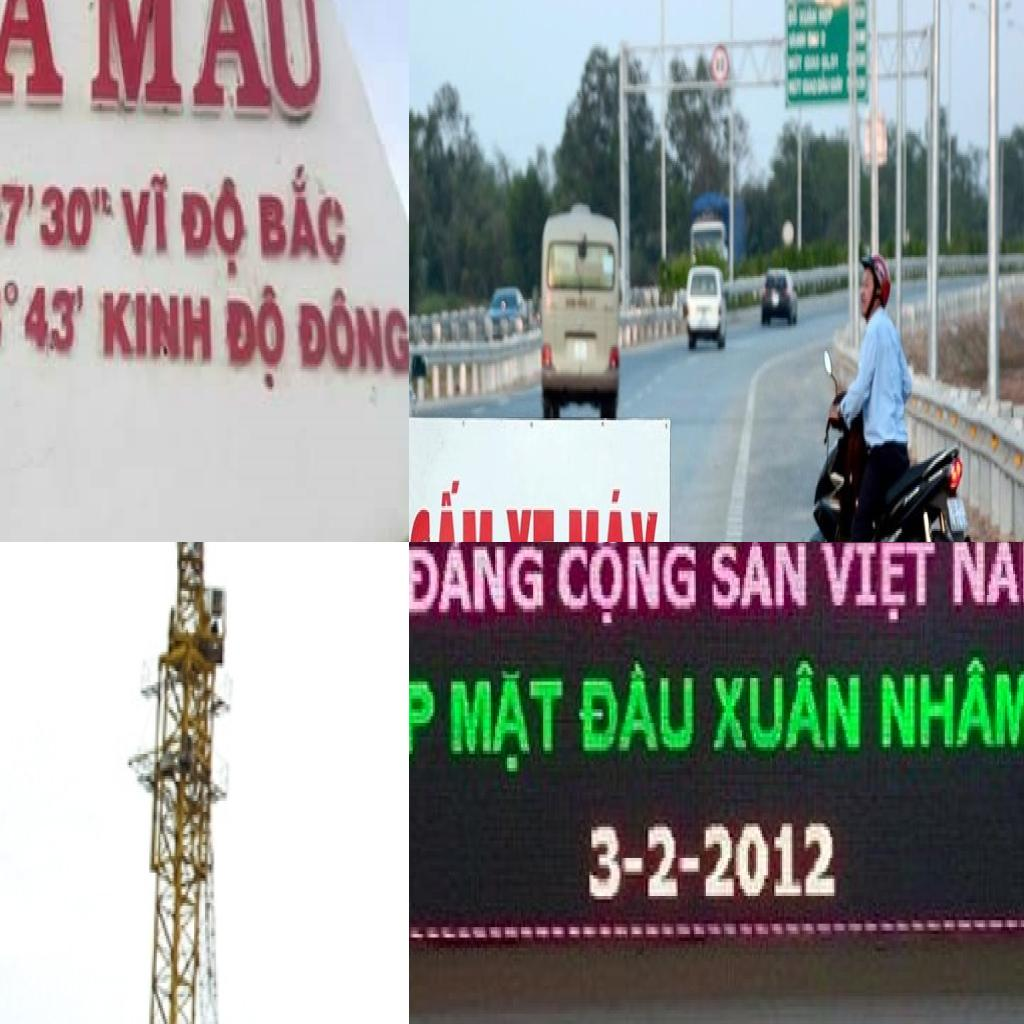text: (81, 0, 339, 131), (710, 657, 864, 758), (878, 657, 1024, 757), (447, 668, 567, 778), (257, 146, 359, 273), (555, 542, 701, 629), (0, 154, 111, 268), (94, 273, 222, 371), (577, 661, 698, 761), (409, 542, 547, 623), (820, 542, 938, 629), (0, 0, 80, 123), (222, 276, 294, 410), (0, 265, 87, 368), (181, 162, 254, 278), (711, 542, 810, 615), (122, 149, 178, 263), (409, 480, 494, 542), (950, 542, 1024, 612), (566, 487, 659, 542), (409, 664, 438, 785), (503, 507, 556, 542), (799, 6, 818, 30), (818, 6, 835, 28), (788, 4, 799, 30)
